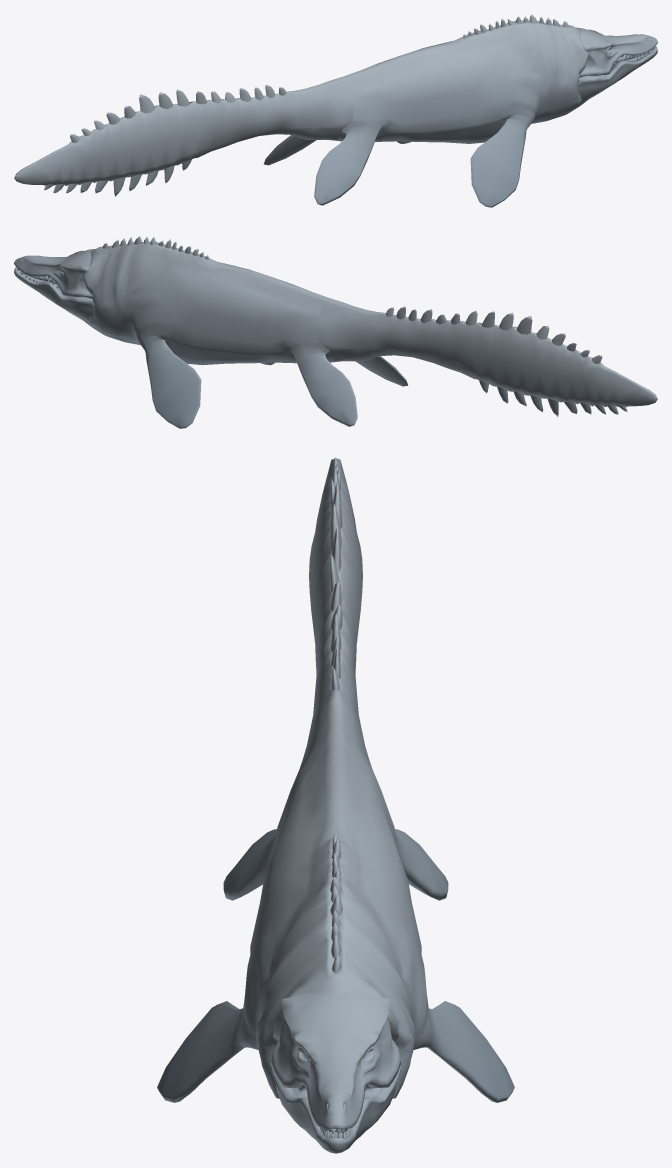
File: tylosaurus.glb
3 renders of one model, top to bottom at view 1: azimuth 30°, elevation 25°; view 2: azimuth 150°, elevation 25°; view 3: azimuth 270°, elevation 25°, orthographic. The views are drawn at different scales.
Bounding box in the file's own units: 14.18 × 3.29 × 3.42.
